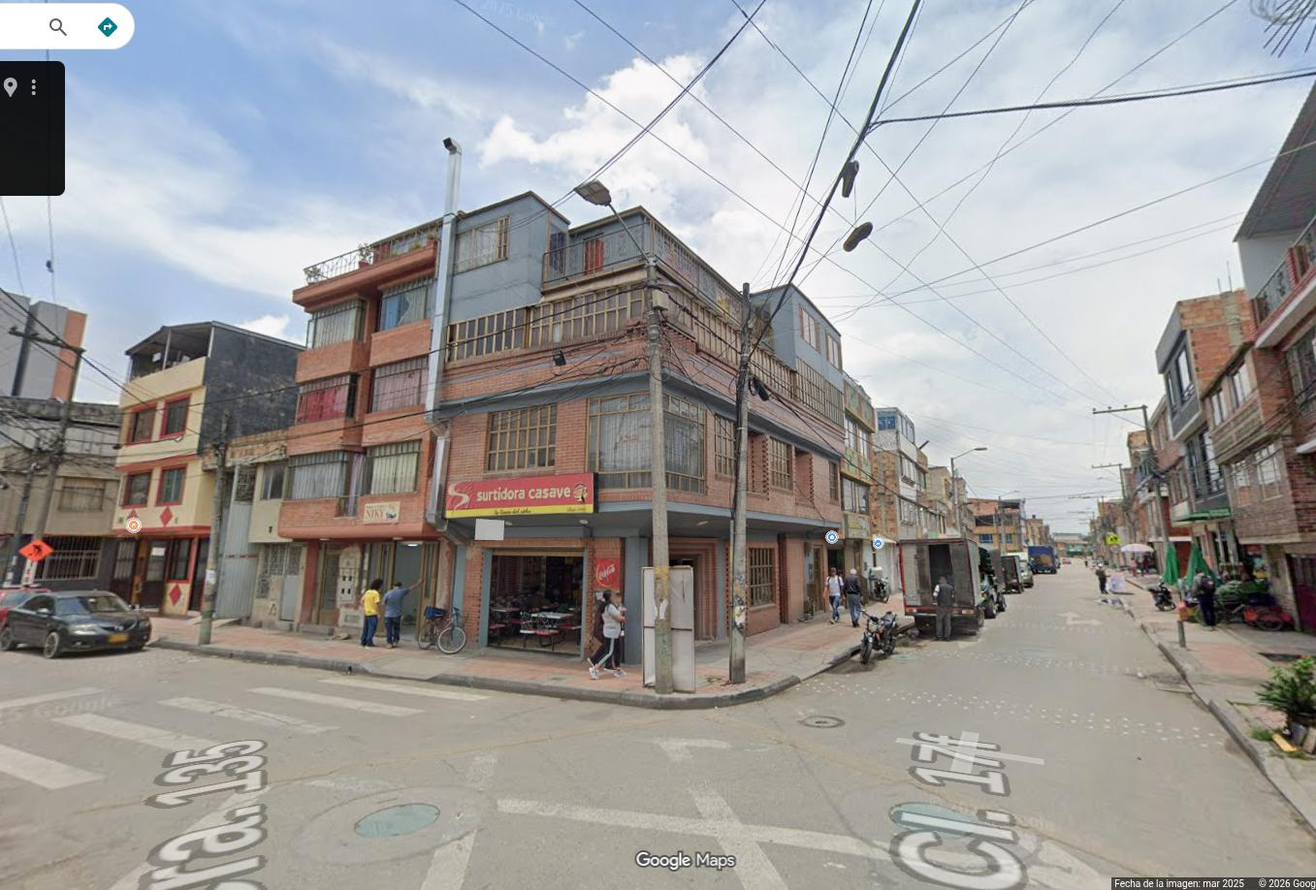casa: (417, 220, 654, 648), (278, 230, 446, 639), (623, 211, 743, 640), (745, 349, 857, 633), (836, 376, 875, 568), (116, 451, 195, 473)
poste: (646, 256, 673, 694), (728, 283, 751, 683), (198, 409, 228, 645), (34, 389, 76, 536), (1139, 405, 1172, 553), (576, 180, 630, 235), (61, 344, 84, 386), (1093, 405, 1134, 414)
